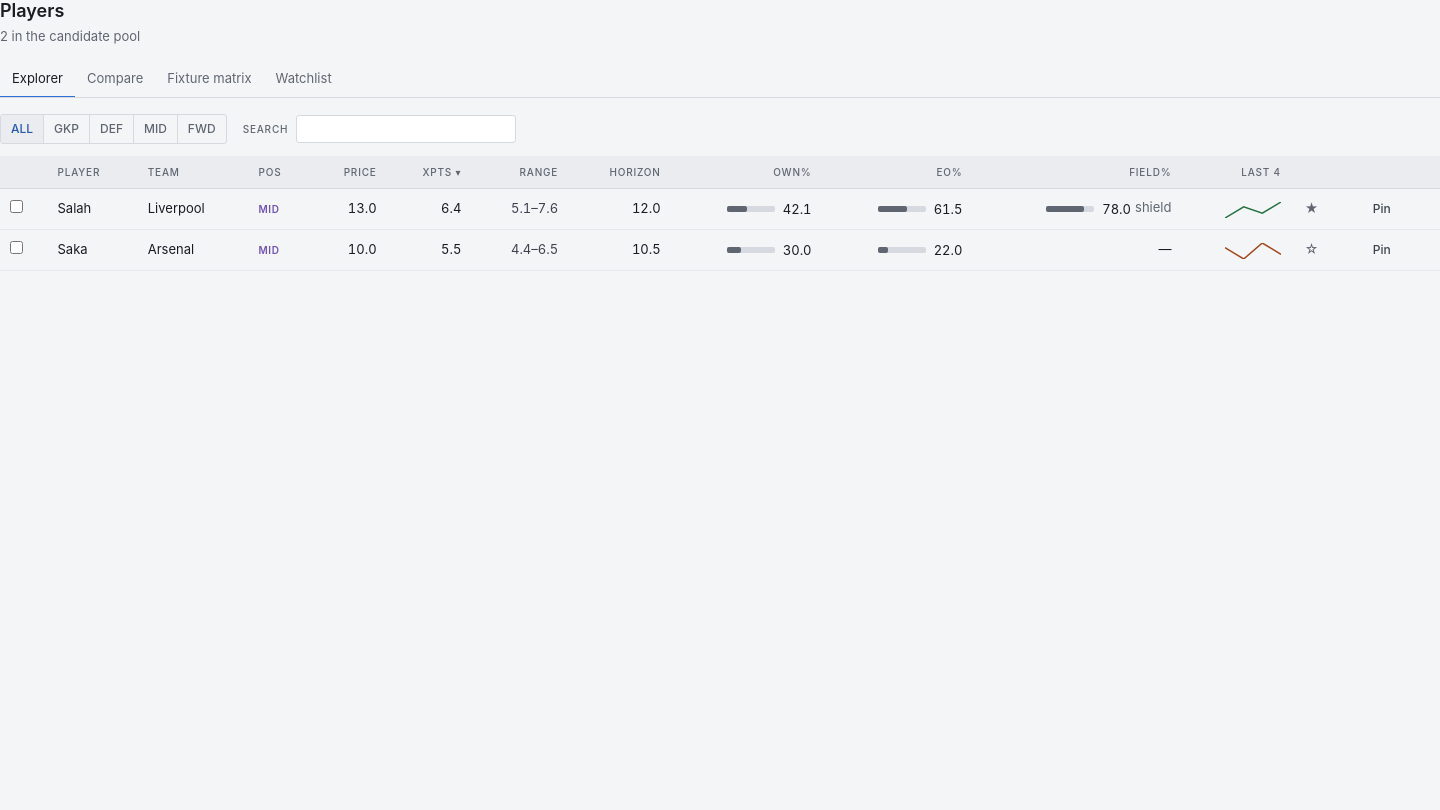
Test case: Players hub › marks the row it has just pinned
Click the button with aria-label "pin Salah": click(1382, 209) [1361,195,1403,223]
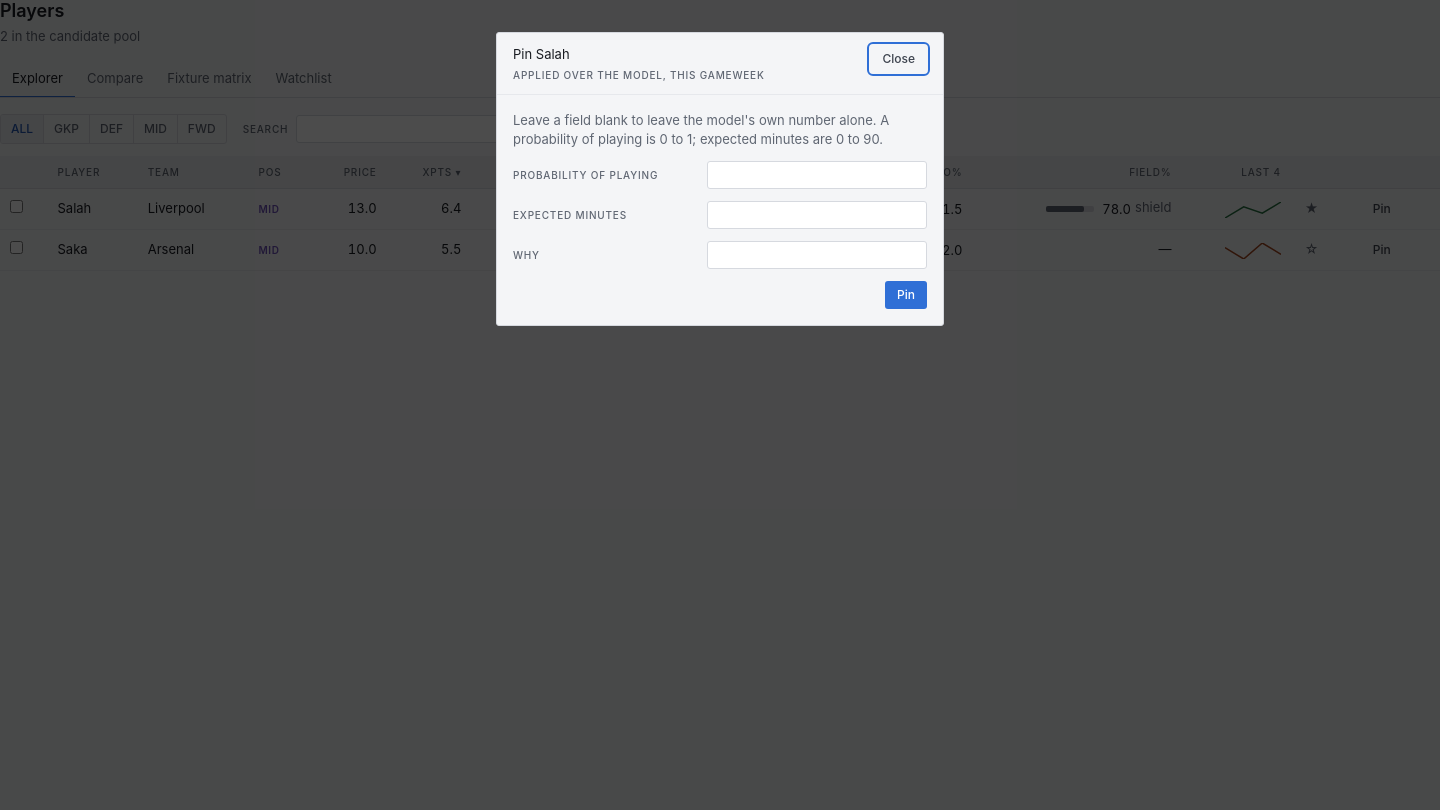
In the field labelled "Probability of playing": (817, 175) [707,161,927,189], type "1"
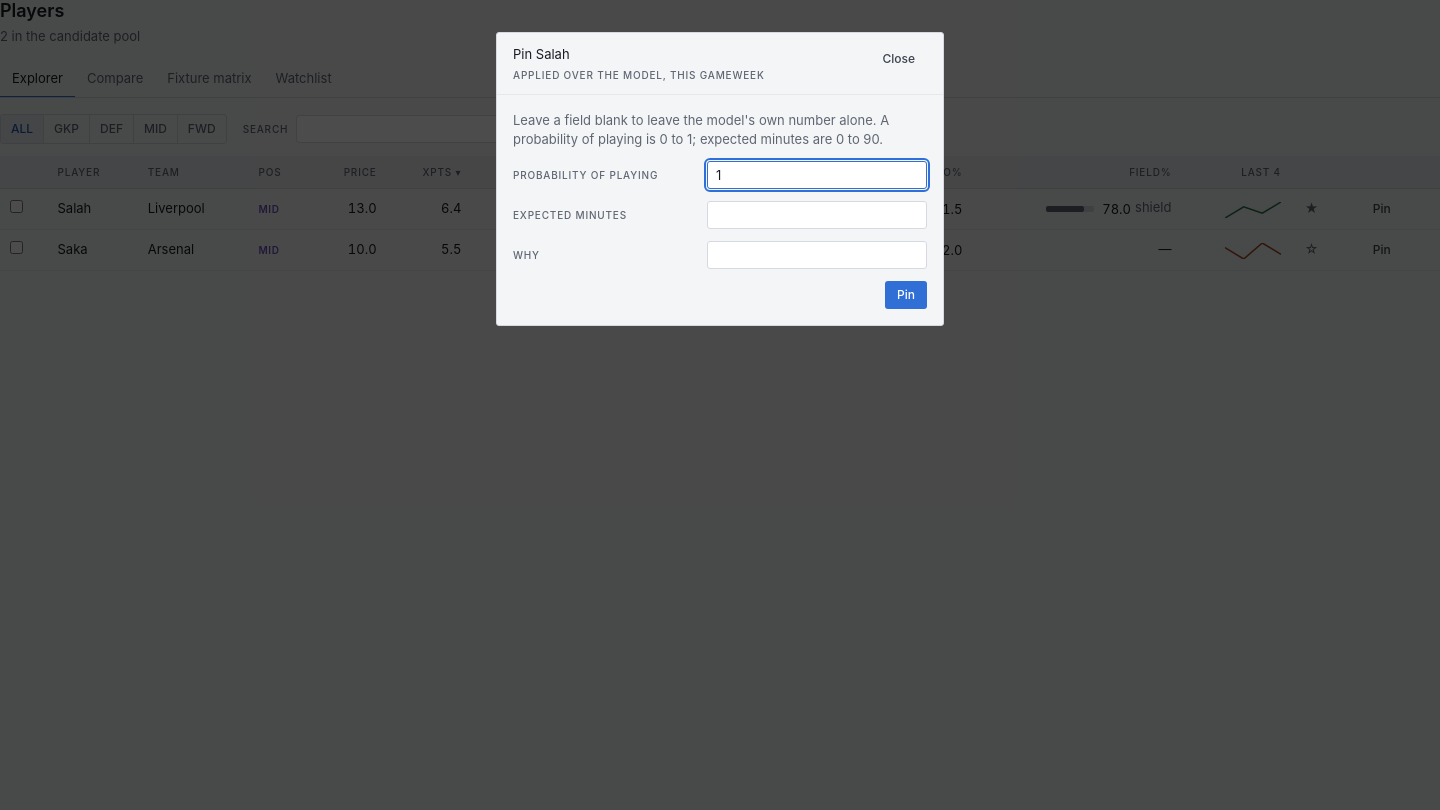
Click the button "Pin": click(906, 295) [885,281,927,309]
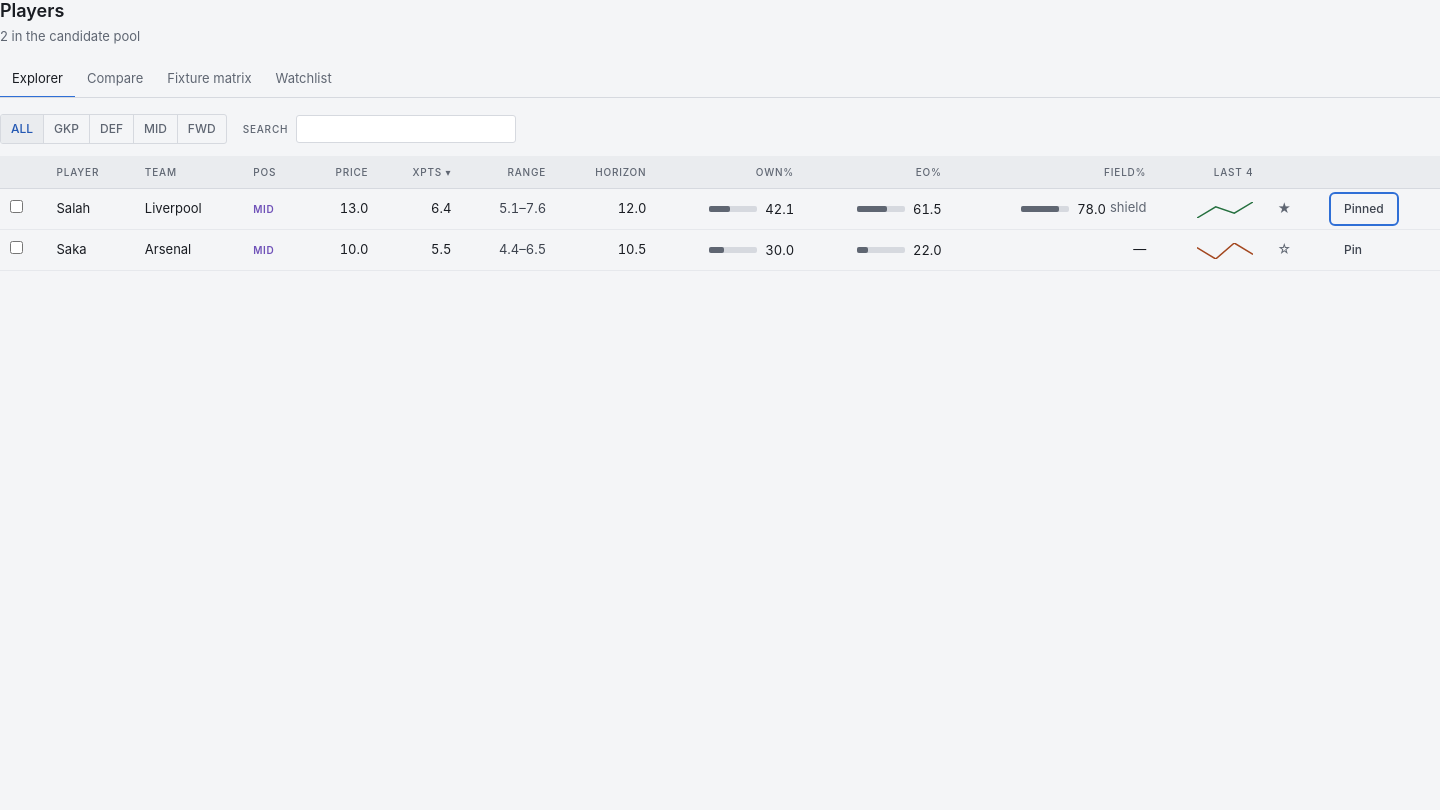
Expected: the button with aria-label "pin Saka" reads "Pin", [1332,236,1374,264]
Now the button with aria-label "pin Salah" reads "Pinned", box [1332,195,1396,223]
